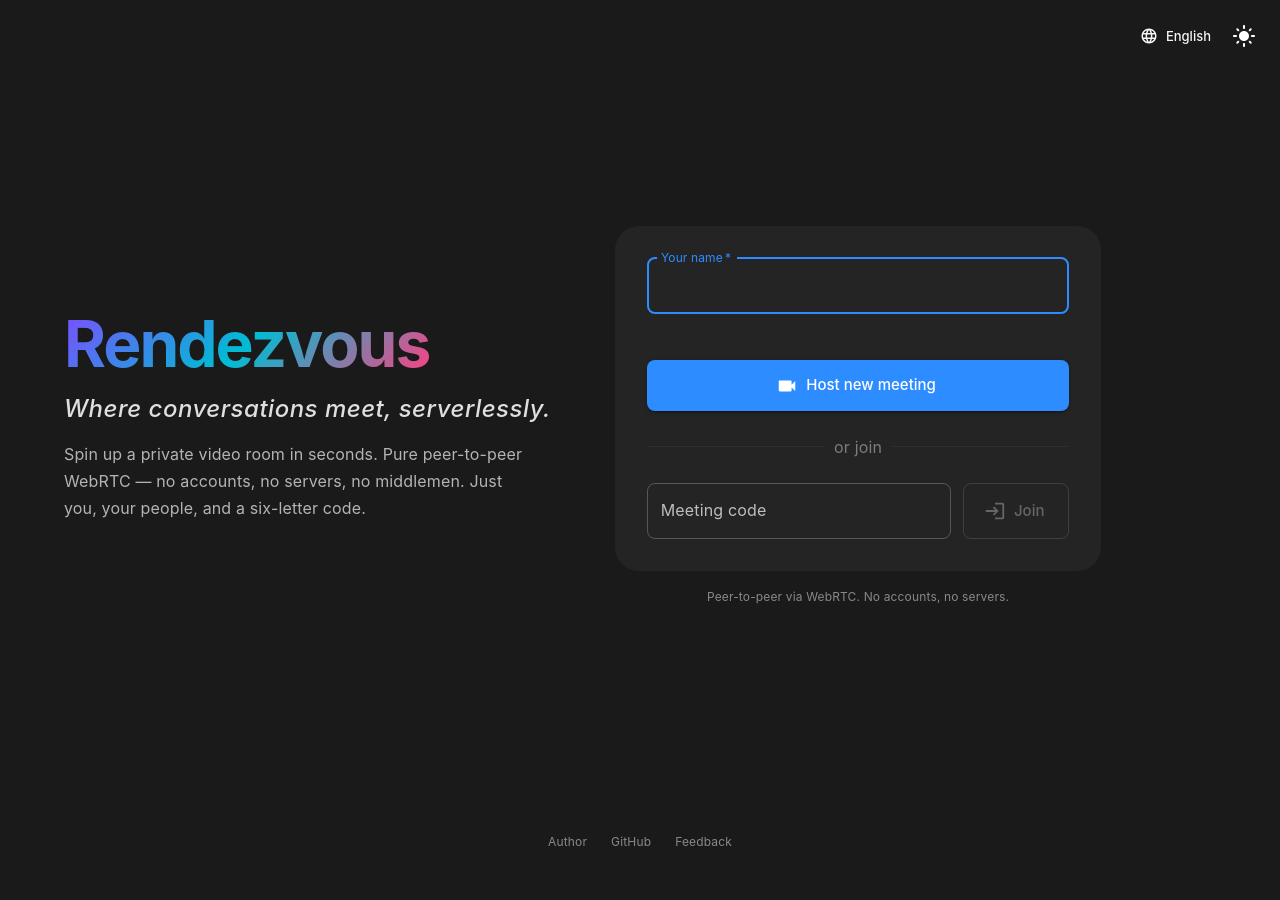
it: HomePage › shows an inline name error and focuses the name field when hosting without a name
The image size is (1280, 900).
What coordinates should you click on to do the following:
click the button "Host new meeting"
I would click on:
 (858, 386)
Its box is [647, 360, 1069, 411].
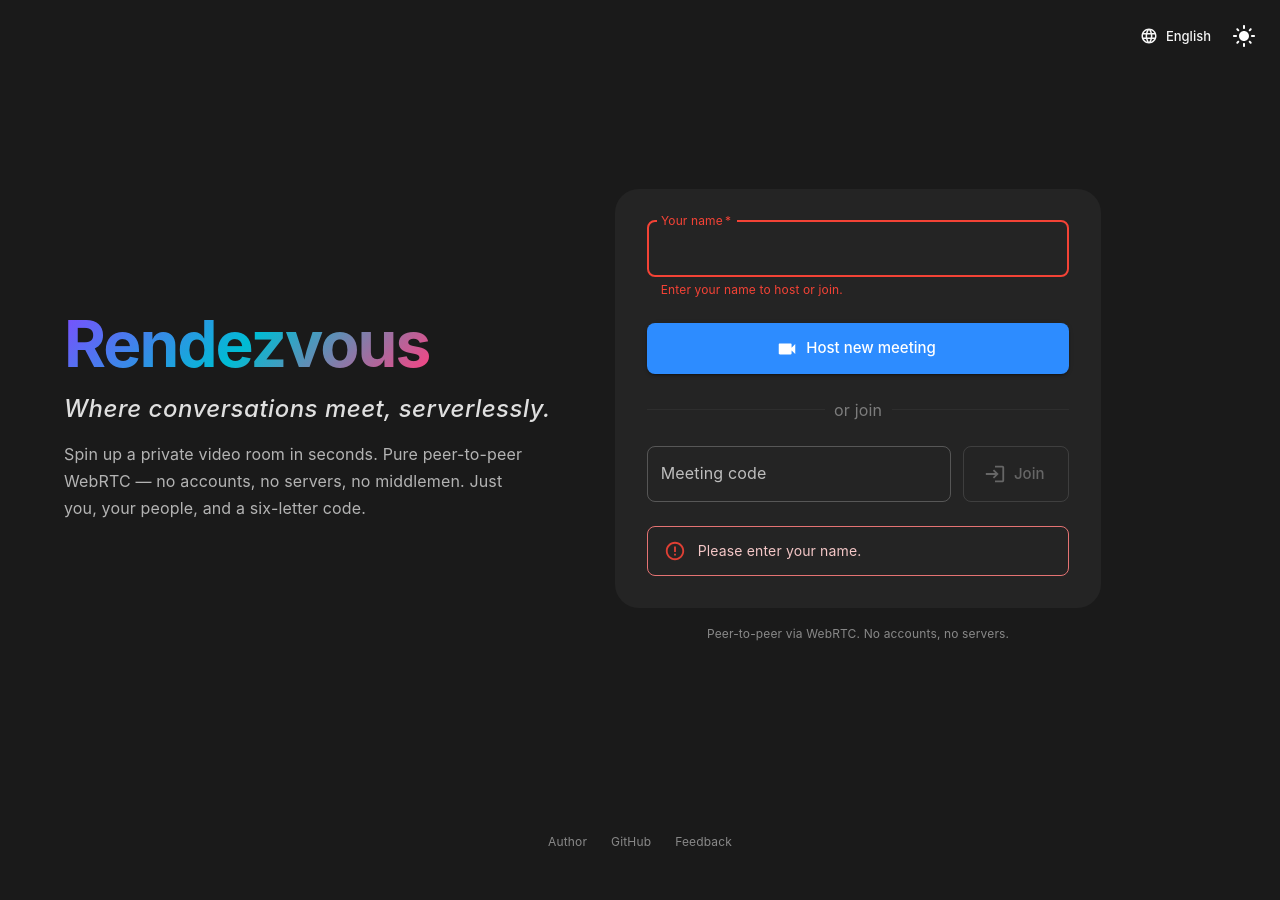
Expected: the text "Please enter your name." is shown, [698, 542, 862, 559]
